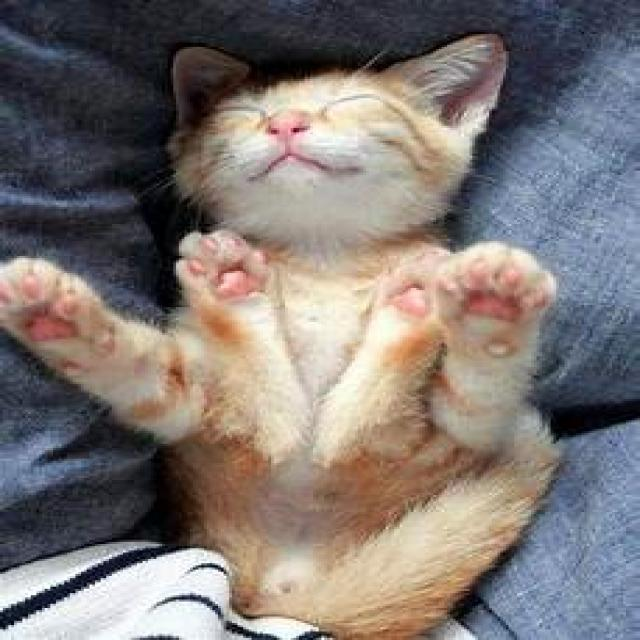animal: (1, 32, 558, 629)
